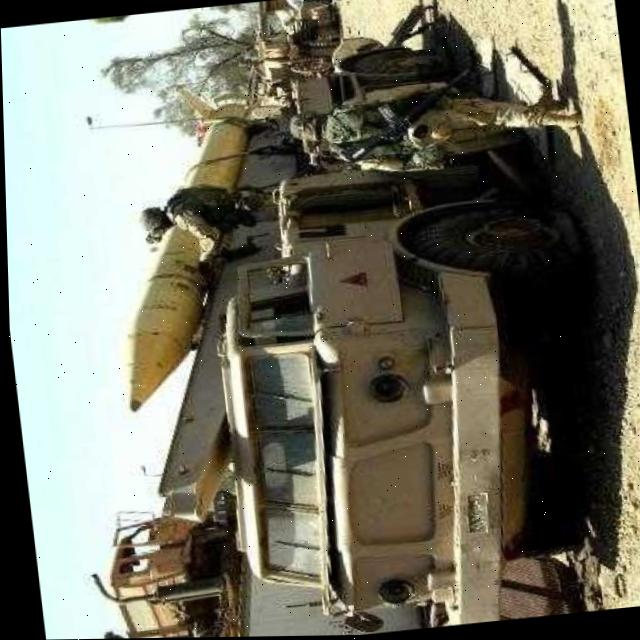missile: (91, 113, 282, 412)
